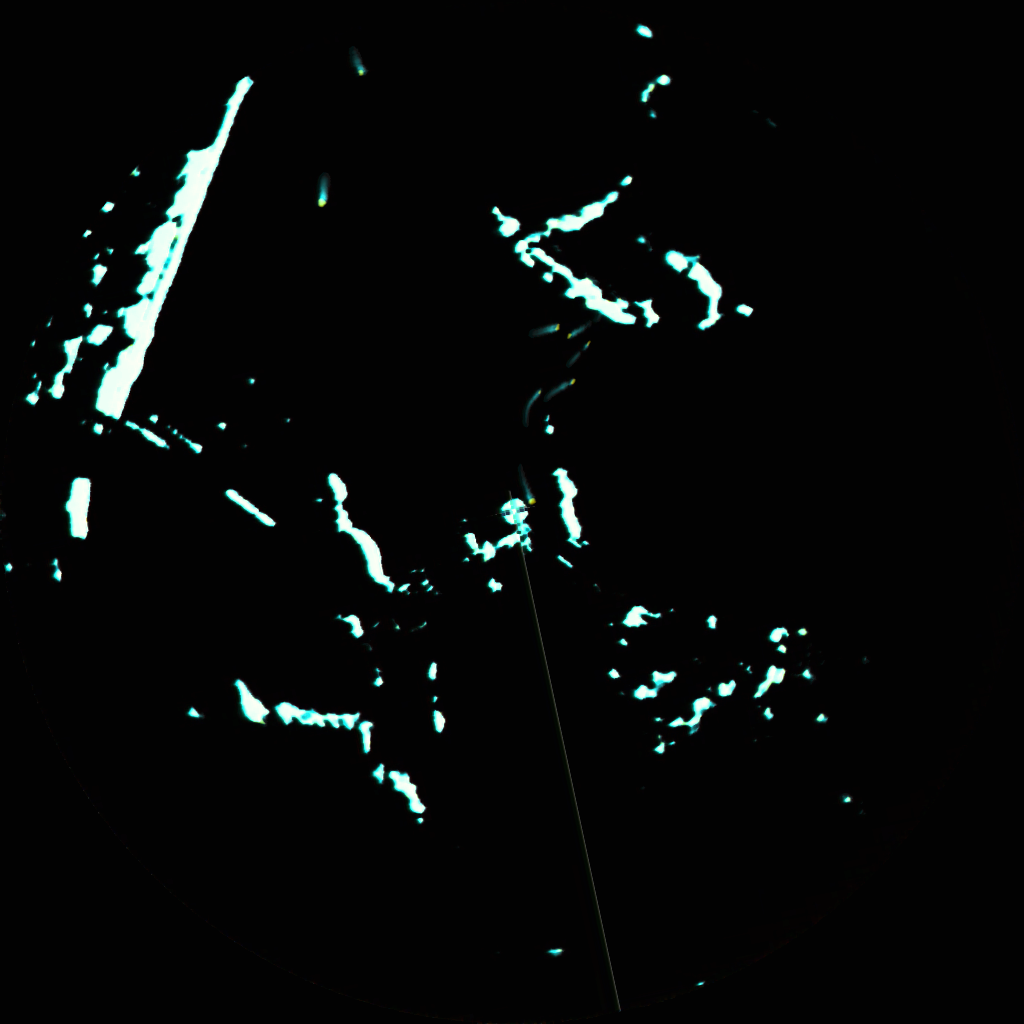B: (520, 477, 532, 504), (550, 378, 569, 395), (567, 326, 589, 340), (352, 54, 365, 74), (528, 387, 539, 406), (320, 182, 328, 205), (532, 328, 560, 333), (569, 352, 576, 362), (585, 340, 590, 350)
